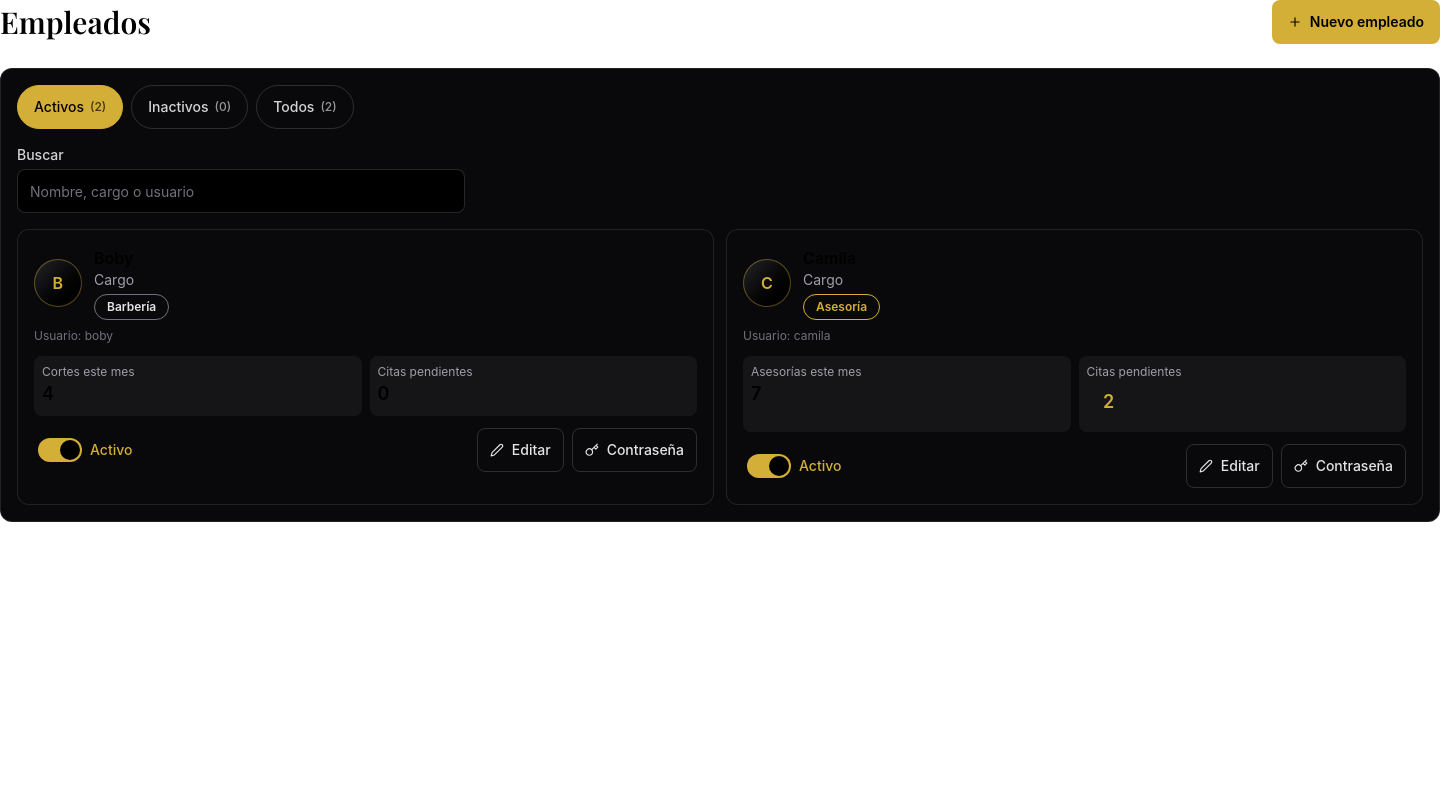
Test: Empleados: área › 409 AREA_CON_CITAS_PENDIENTES: mensaje claro en el campo Área (role=alert), foco ahí, enlace a sus citas y el formulario sigue usable
Expected: the element named "Estado" is shown, [17,85,354,129]
Click the 2nd button "Editar" at (1229,466), box [1186,444,1273,488]
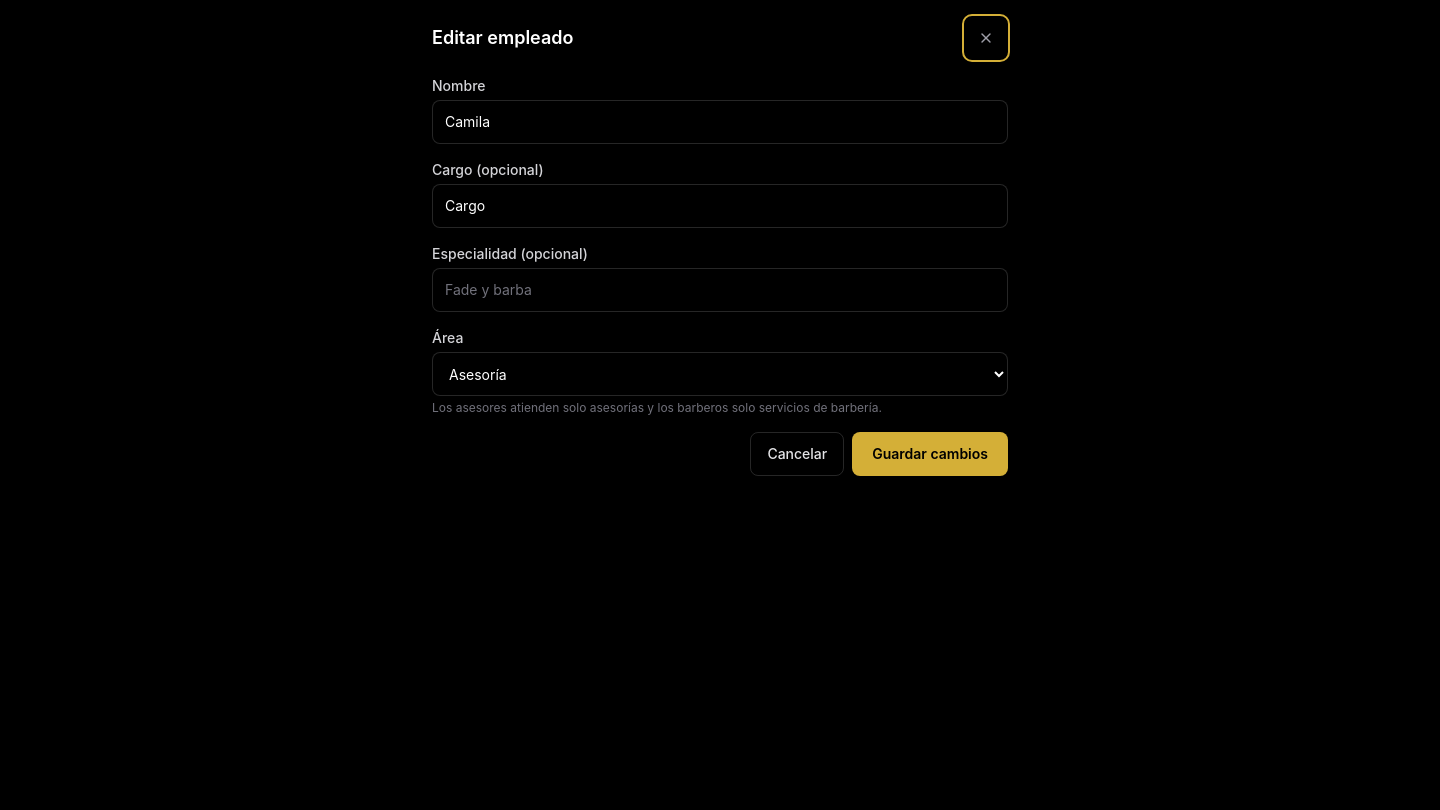
Select "Barbería" in the dropdown labelled "Área" at (720,374), box [432,352,1008,396]
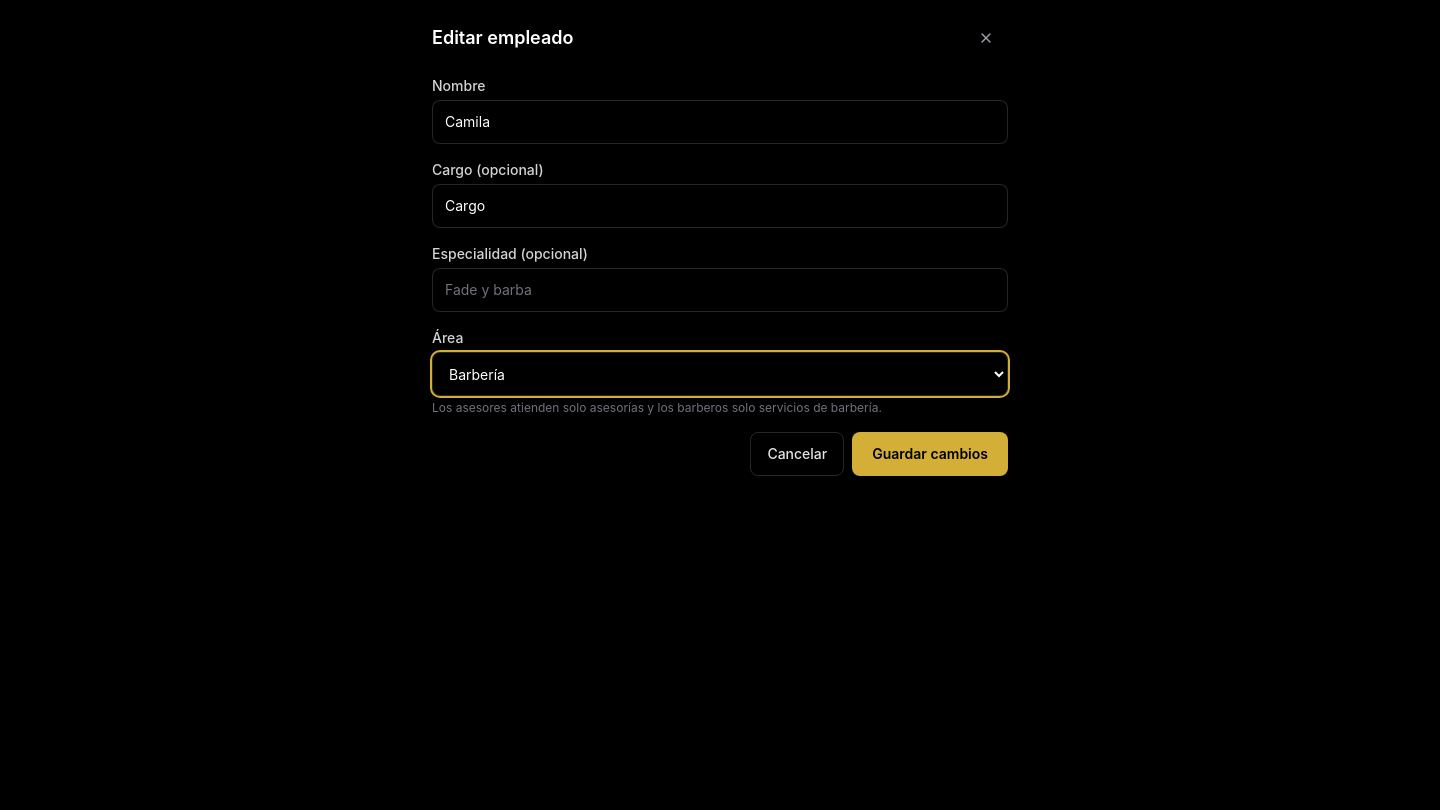
Click the button "Guardar cambios" at (930,454), box [852,432,1008,476]
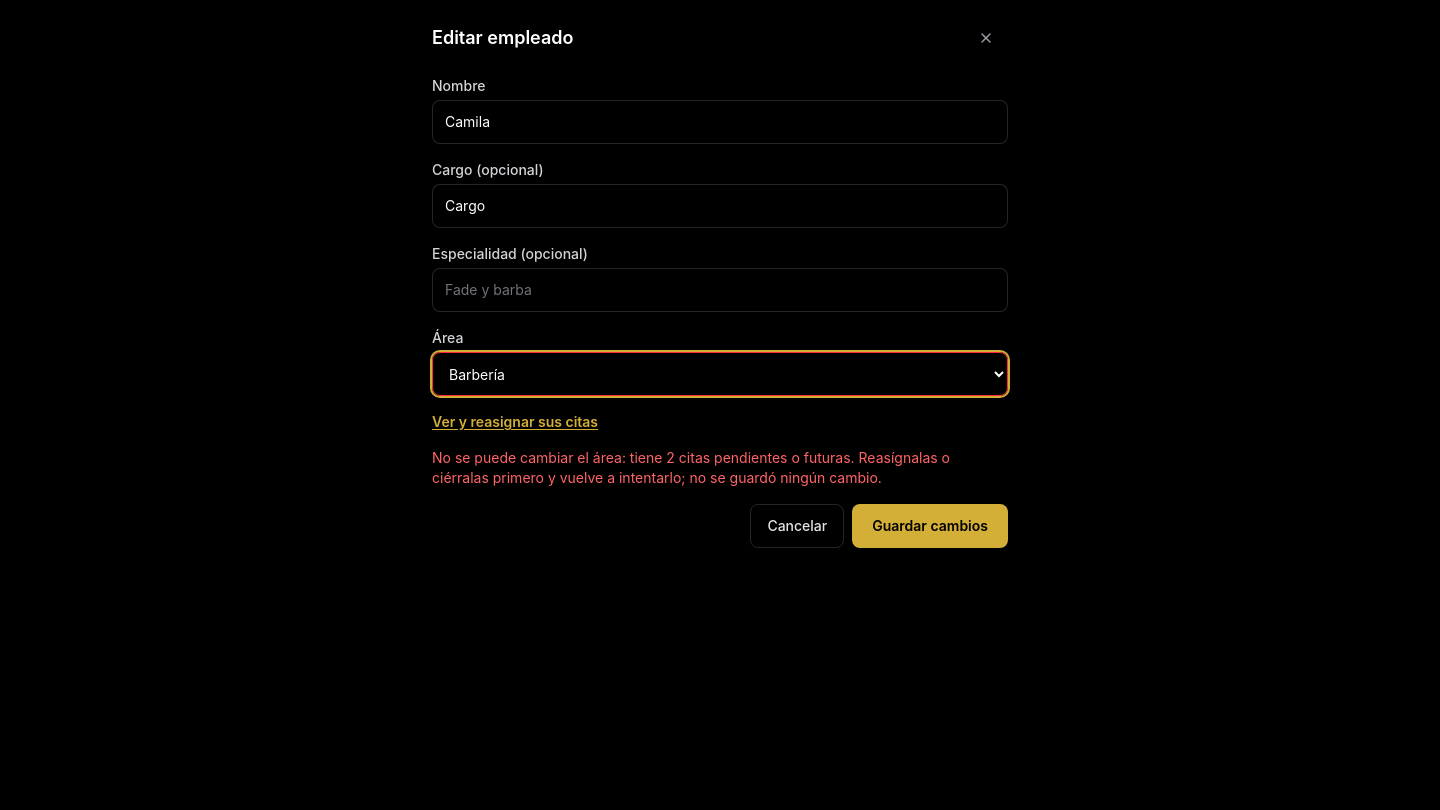
Now the button "Guardar cambios" is enabled, box [852,504,1008,548]
Now the message shows "No se puede cambiar el área: tiene 2 citas pendientes o futuras", box [432,449,950,486]
Now the message shows "no se guardó ningún cambio", box [432,449,950,486]
Select "Asesoría" in the dropdown labelled "Área" at (720,374), box [432,352,1008,396]
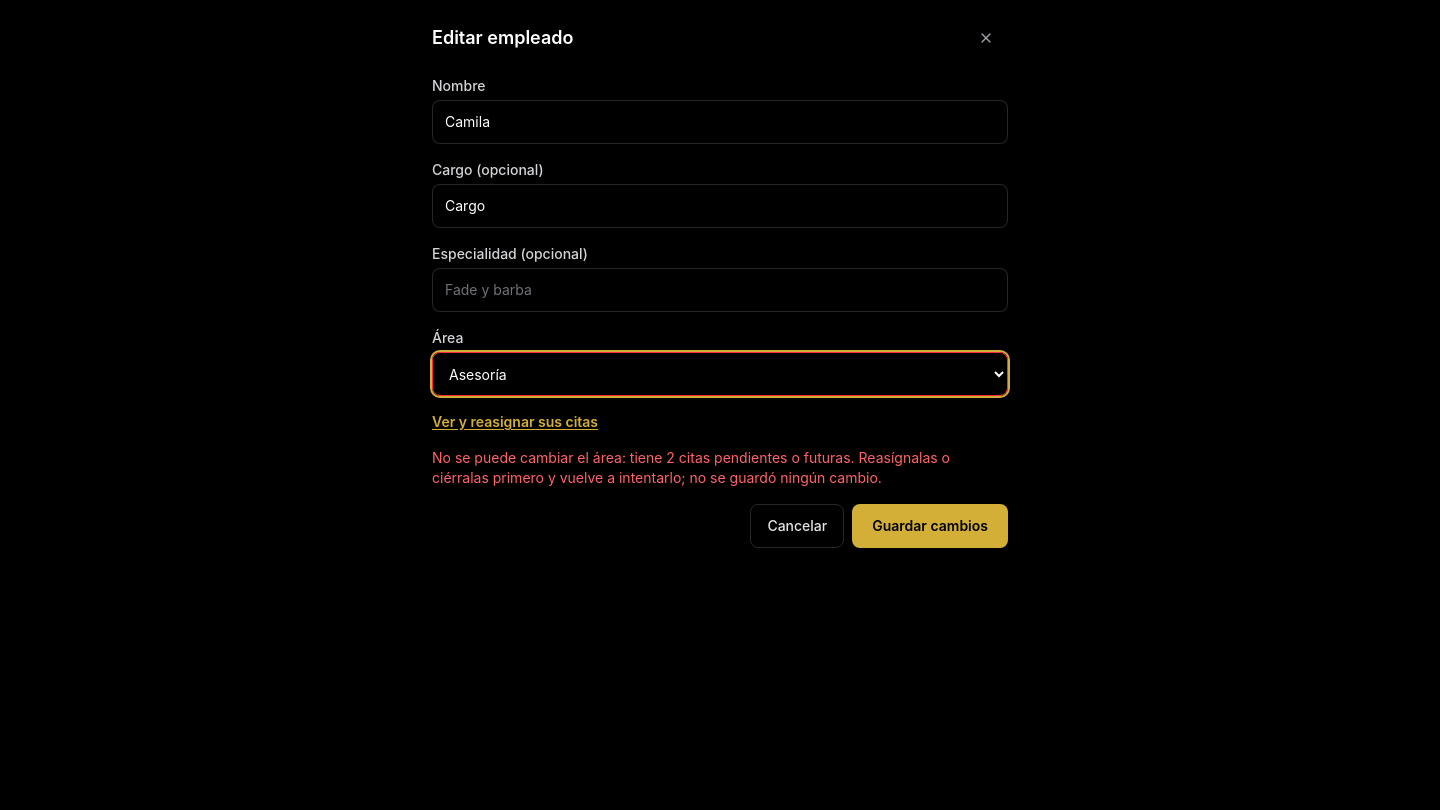
Click the button "Guardar cambios" at (930,526), box [852,504,1008,548]
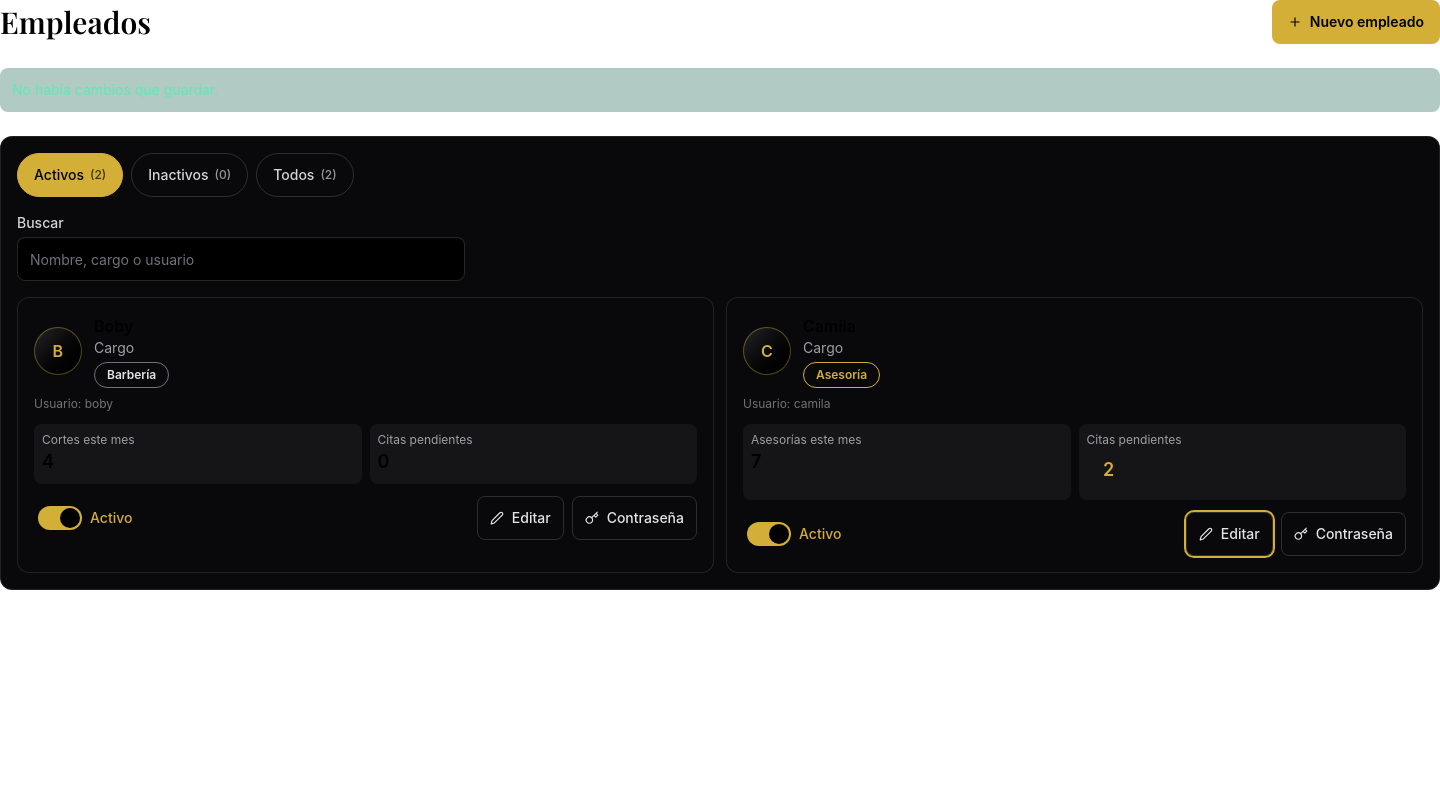
Now the dialog is gone
